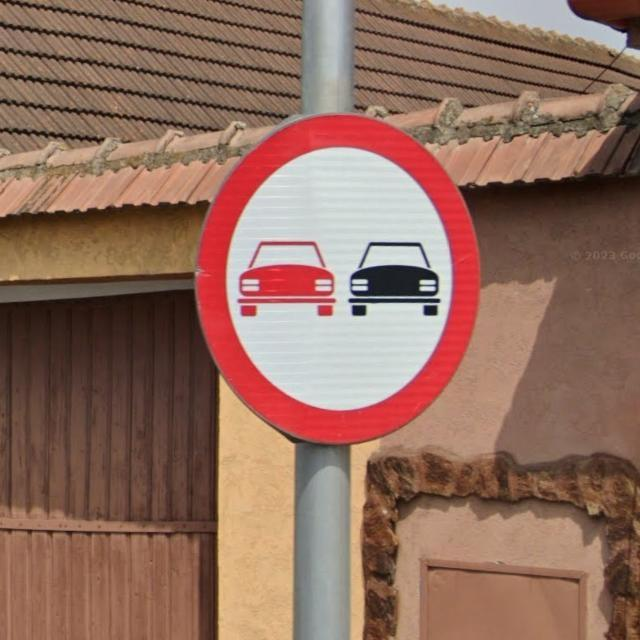forb_overtake: (196, 111, 481, 447)
